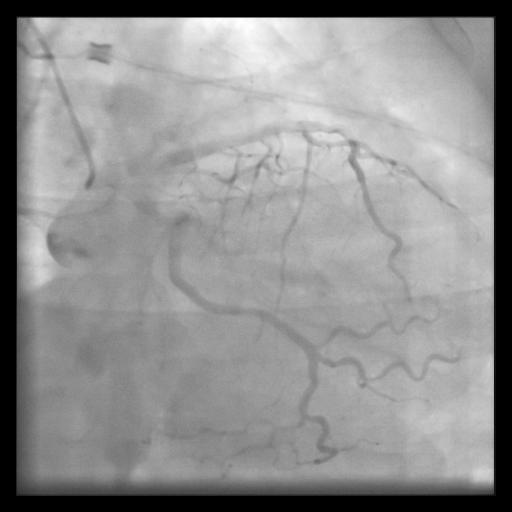Stenosis: (239, 304, 259, 319)
